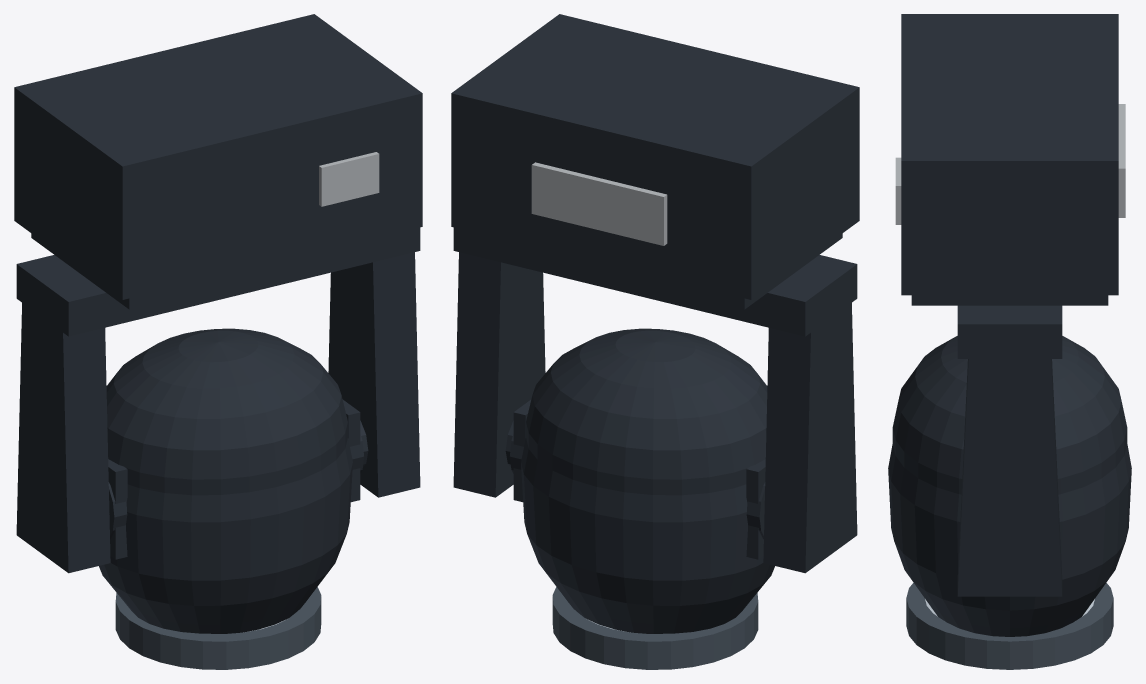
Rendered from moving-head-wash-large-no-clamp.glb.
3 renders of one model, left to right at view 1: azimuth 30°, elevation 25°; view 2: azimuth 150°, elevation 25°; view 3: azimuth 270°, elevation 25°, orthographic.
Visible parts, largest first — view 1: moving-base, head-body, yoke-left, yoke-right, yoke-crossbar, lens-ring, head-cheeks, base-display; view 2: moving-base, head-body, yoke-left, yoke-right, yoke-crossbar, lens-ring, base-connectors, head-cheeks; view 3: moving-base, head-body, yoke-right, lens-ring, yoke-crossbar, base-connectors, base-display.
Part boxes in pixels (<box>): moving-base: <box>14,14,422,309</box>; head-body: <box>99,328,352,633</box>; yoke-left: <box>16,303,110,573</box>; yoke-right: <box>328,252,420,497</box>; yoke-crossbar: <box>16,227,420,336</box>; lens-ring: <box>115,587,321,669</box>; head-cheeks: <box>108,399,363,559</box>; base-display: <box>319,152,379,206</box>; moving-base: <box>451,14,859,309</box>; head-body: <box>521,328,774,633</box>; yoke-left: <box>763,303,857,573</box>; yoke-right: <box>453,252,545,497</box>; yoke-crossbar: <box>453,227,857,336</box>; lens-ring: <box>552,587,758,669</box>; base-connectors: <box>531,162,667,245</box>; head-cheeks: <box>510,399,765,559</box>; moving-base: <box>901,14,1118,305</box>; head-body: <box>888,336,1131,636</box>; yoke-right: <box>957,359,1062,596</box>; lens-ring: <box>906,583,1113,669</box>; yoke-crossbar: <box>957,305,1062,358</box>; base-connectors: <box>1118,104,1125,217</box>; base-display: <box>895,157,901,224</box>.
Bounding box in the file's own units: 0.586 × 0.8534 × 0.35.
